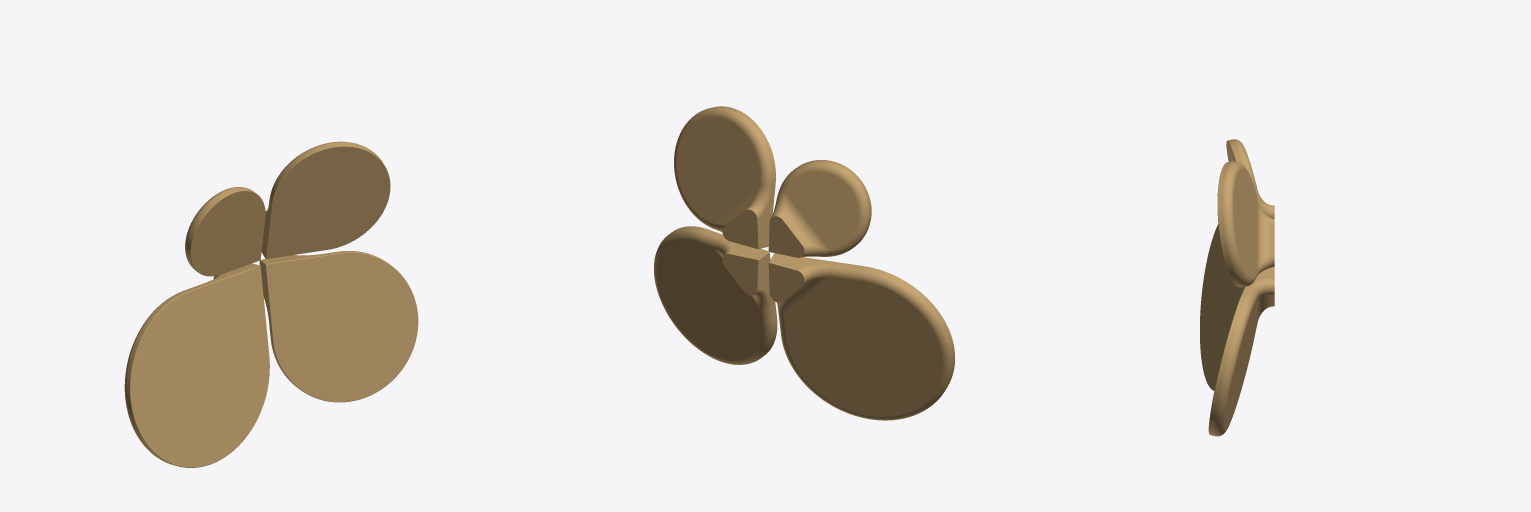
The model's file is multipetal.glb.
The picture shows the model from 3 angles, left to right: view 1: azimuth 30°, elevation 25°; view 2: azimuth 150°, elevation 25°; view 3: azimuth 270°, elevation 25°; orthographic projection.
Parts seen in each view (by area): view 1: petal 4, petal 3, petal 2, petal 1; view 2: petal 4, petal 3, petal 2, petal 1; view 3: petal 2, petal 3, petal 4, petal 1.
Part boxes in pixels (x1,y1,x2,y2): petal 4: [124, 263, 269, 467]; petal 3: [259, 251, 418, 402]; petal 2: [261, 141, 390, 258]; petal 1: [185, 187, 265, 276]; petal 4: [768, 253, 954, 420]; petal 3: [654, 226, 777, 364]; petal 2: [674, 106, 775, 248]; petal 1: [768, 160, 871, 257]; petal 2: [1217, 161, 1274, 287]; petal 3: [1208, 266, 1274, 436]; petal 4: [1200, 224, 1244, 390]; petal 1: [1226, 139, 1274, 218].
Bounding box in the file's own units: 0.2159 × 0.2159 × 0.2159.
